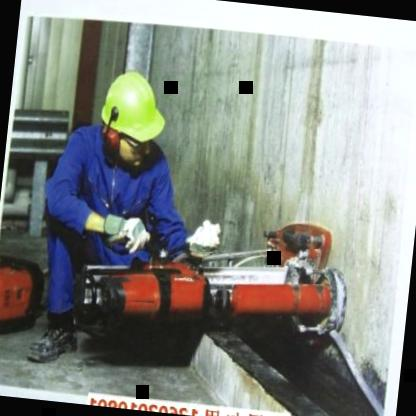helmet: (90, 61, 174, 175)
